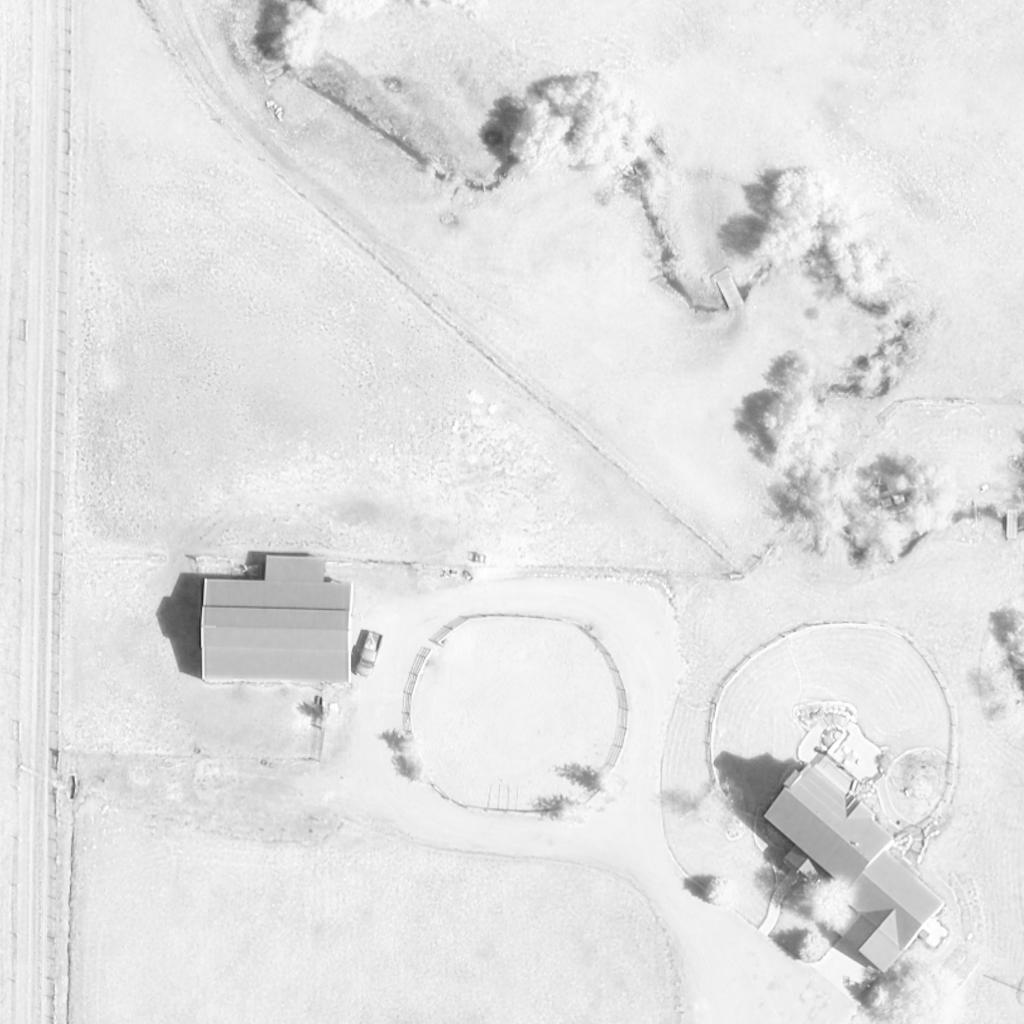vehicle: (354, 632, 386, 680)
